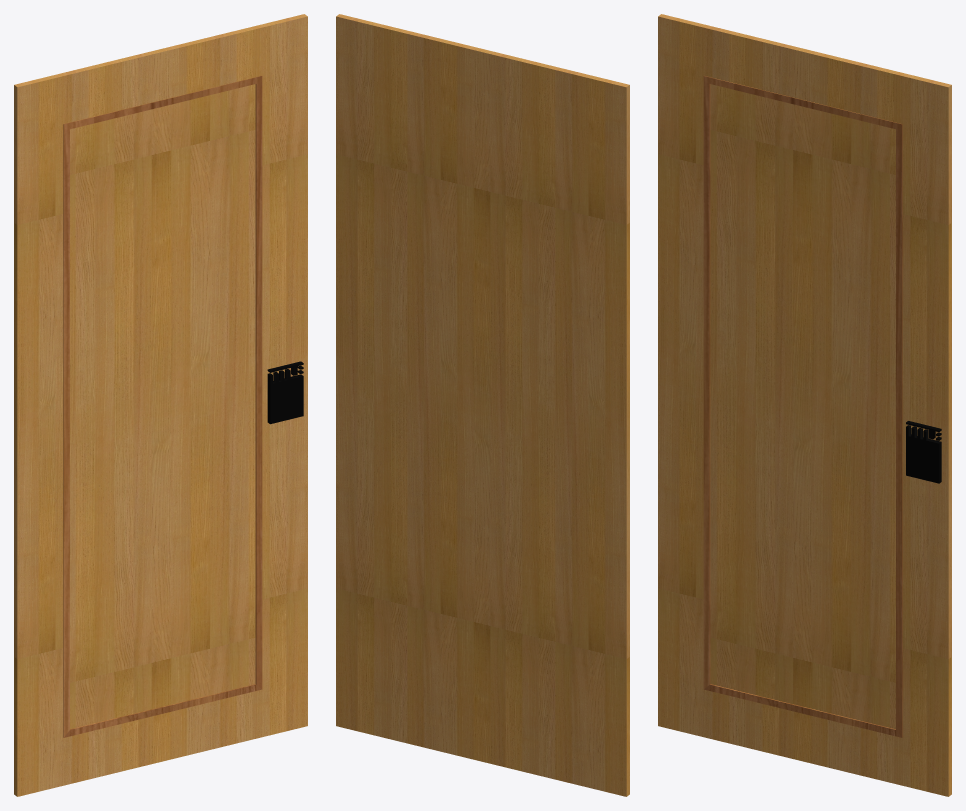
File: Door.fbx
3 views of the same model, side by side, from view 1: azimuth 30°, elevation 25°; view 2: azimuth 150°, elevation 25°; view 3: azimuth 330°, elevation 25° (orthographic).
Parts seen in each view (by area): view 1: Door; view 2: Door; view 3: Door.
Part boxes in pixels (x1,y1,x2,y2): Door: (14, 14, 307, 796); Door: (336, 14, 629, 796); Door: (658, 14, 951, 796).
Size of the model in its own units: 126 by 293 by 4.4.
